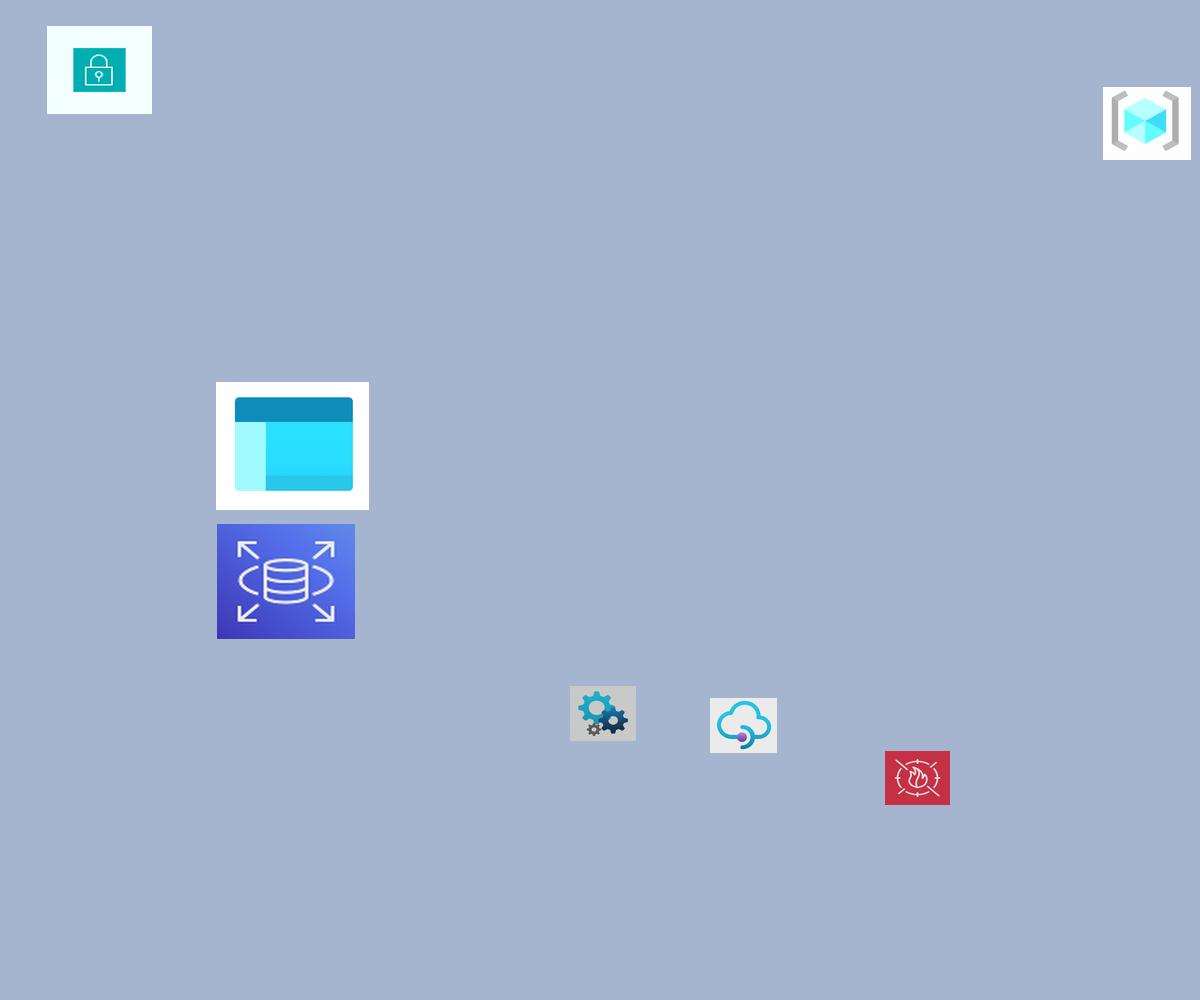AWS-Private-subnet: (47, 26, 152, 114)
AWS-RDS: (217, 524, 355, 639)
AWS-WAF: (885, 751, 950, 805)
Azure_api: (570, 686, 636, 741)
Azure_api_gateway: (710, 698, 777, 753)
Azure_management-portal: (216, 382, 369, 510)
Azure_resource_group: (1103, 87, 1191, 160)
